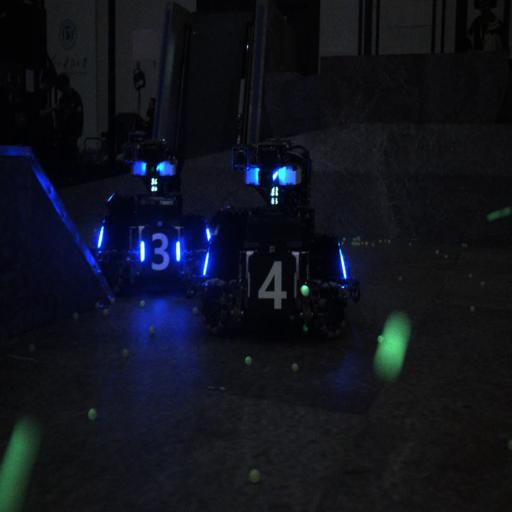target: (243, 249, 298, 317), (138, 228, 183, 276)
